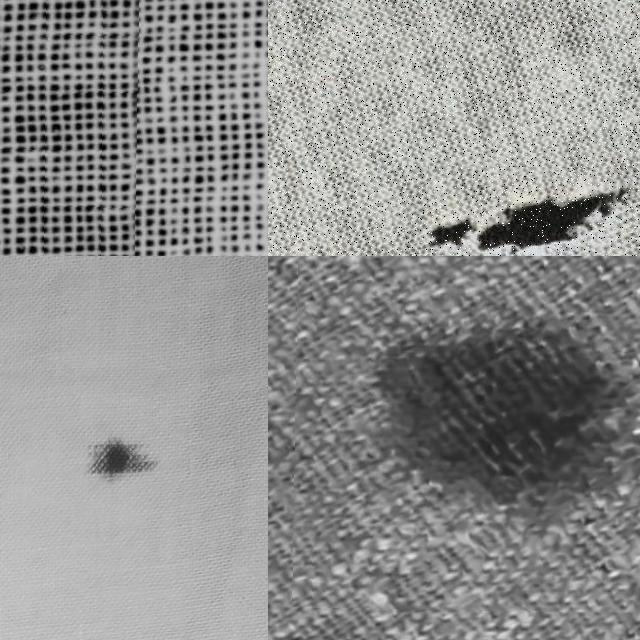Thread_other: (58, 410, 179, 514)
other: (292, 256, 640, 612), (404, 167, 640, 256)
